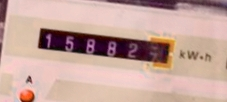1: (43, 32, 54, 49)
2: (126, 41, 138, 59)
5: (64, 34, 76, 51)
7: (148, 50, 158, 62)
8: (105, 39, 117, 57), (84, 38, 96, 55)
screen: (30, 18, 181, 75)
